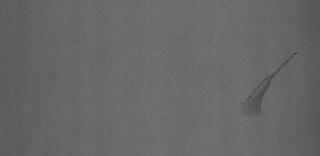water spot: (240, 43, 300, 125)
